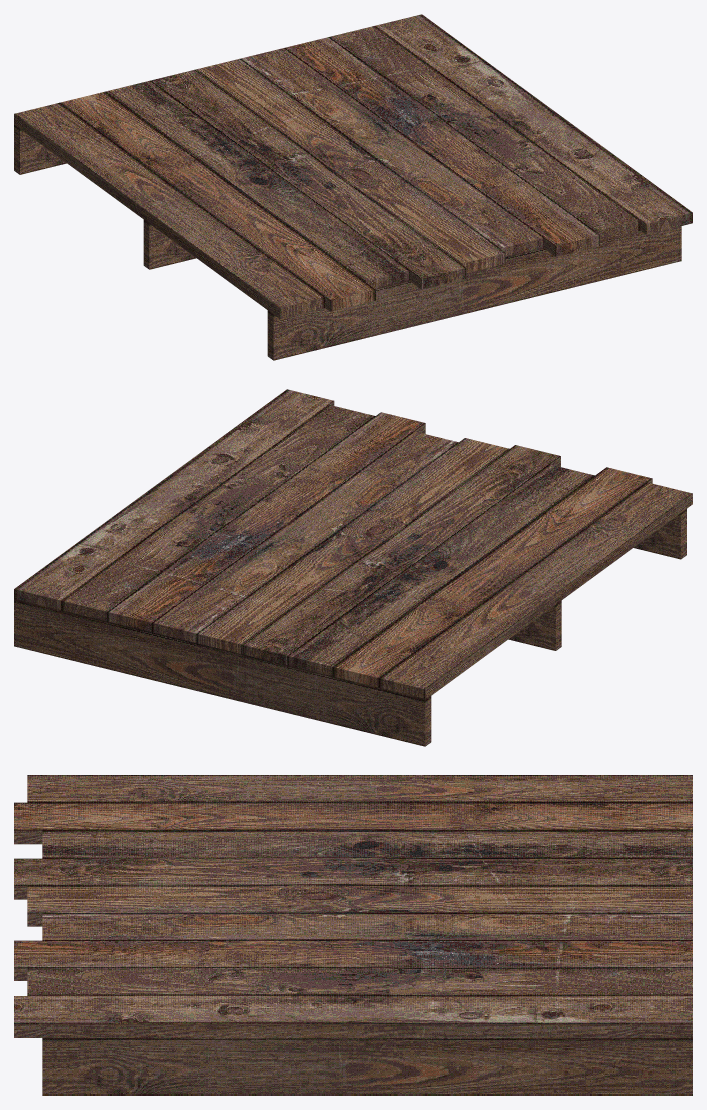
The model's file is floor-porch-R.glb.
3 views of the same model, one above another, from view 1: azimuth 30°, elevation 25°; view 2: azimuth 150°, elevation 25°; view 3: azimuth 270°, elevation 25° (orthographic). The views are drawn at different scales.
Visible parts, largest first — view 1: floor-porch-R.001; view 2: floor-porch-R.001; view 3: floor-porch-R.001.
Boxes of the visible parts, x1,y1,x2,y2 form: floor-porch-R.001: (14,14,692,360); floor-porch-R.001: (14,389,692,746); floor-porch-R.001: (14,775,692,1095).
Size of the model in its own units: 2 by 0.2661 by 2.3.
1 material, 1 textured.
